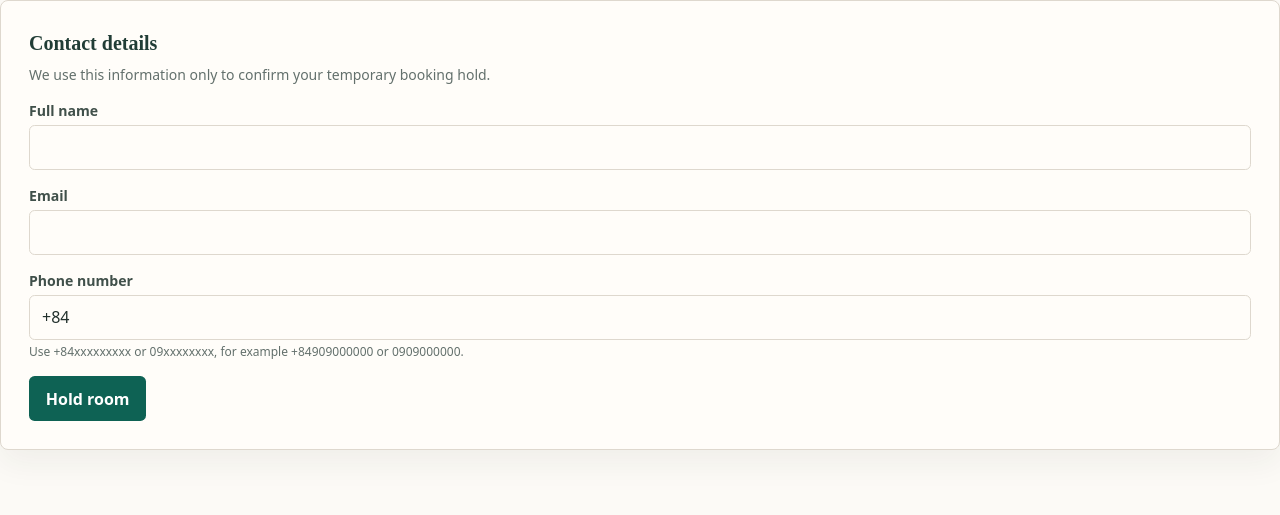
Test: QuoteContactForm › uses English labels and validation messages while preserving contact data
Type "A" into the field labelled "Full name" at (640, 148), box 29,125 -> 1251,170
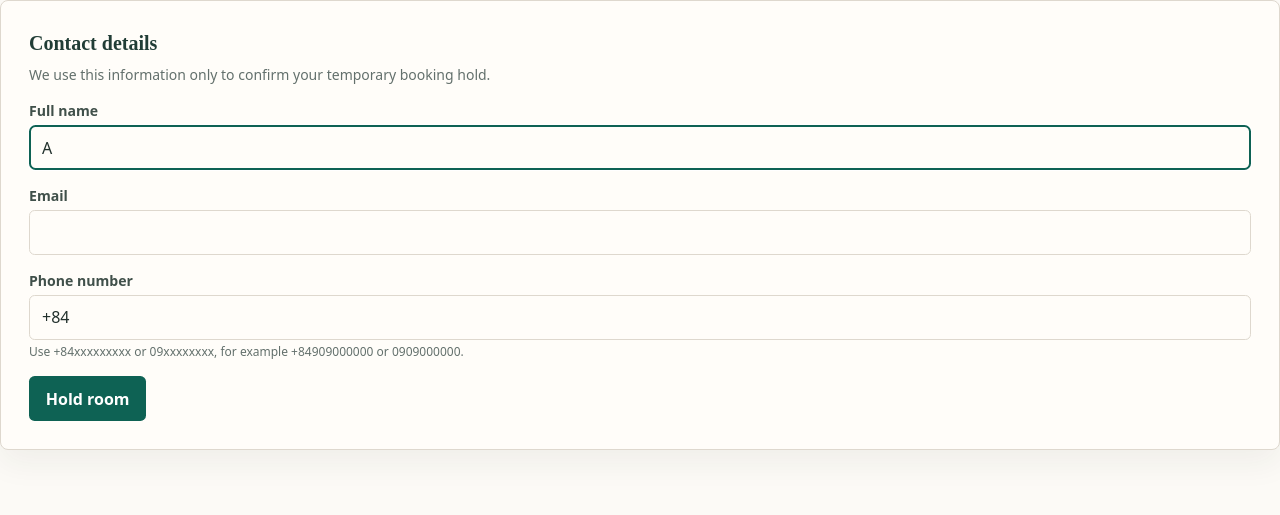
Type "not-an-email" into the field labelled "Email" at (640, 232), box 29,210 -> 1251,255
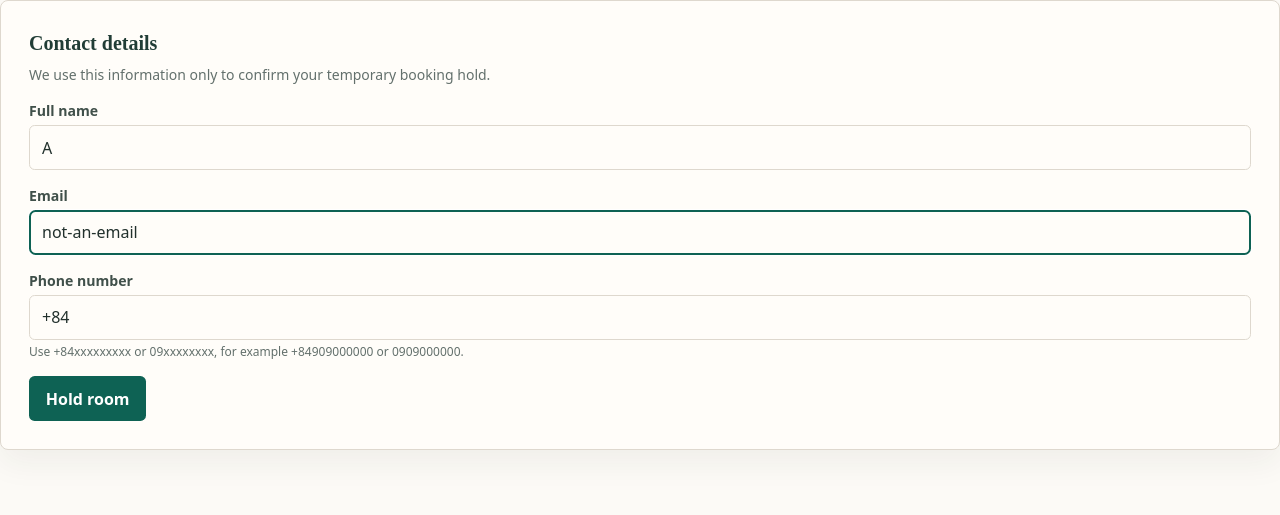
Click the button "Hold room" at (88, 398), box 29,376 -> 146,421
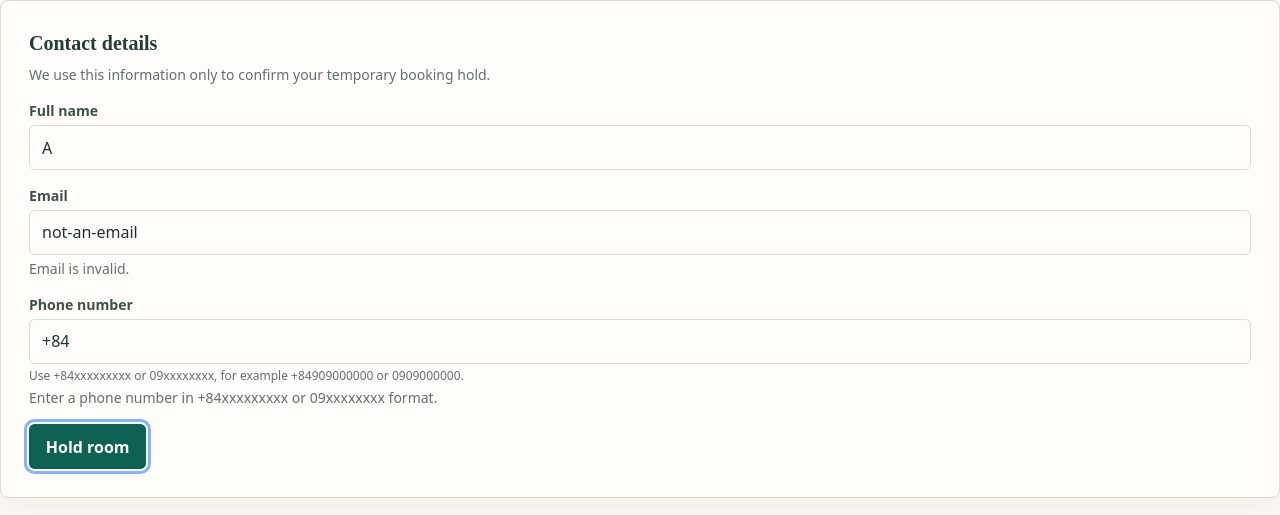
Expected: the text "Email is invalid." is shown, 29,259 -> 129,278
